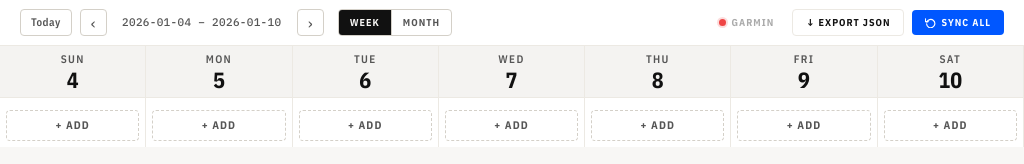
Scenario: test_today_button_navigates_to_current_period › click Today after navigating away → date label includes current week
The image size is (1024, 164).
Check: the text "2026-01-04 – 2026-01-10" is shown, box [115,14,289,31]
Click Today
Click the button with aria-label "go to today" at (46, 22), box [20,9,72,36]
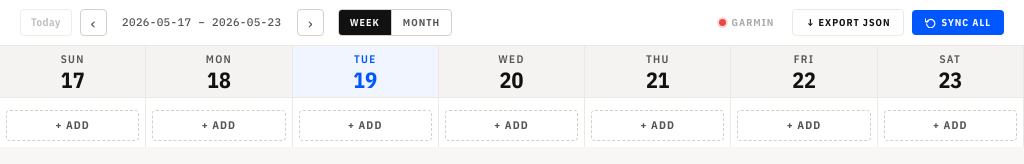
Check: the text "2026-05-17 – 2026-05-23" is shown, box [115,14,289,31]
Check: the text "2026-01-04" is gone
